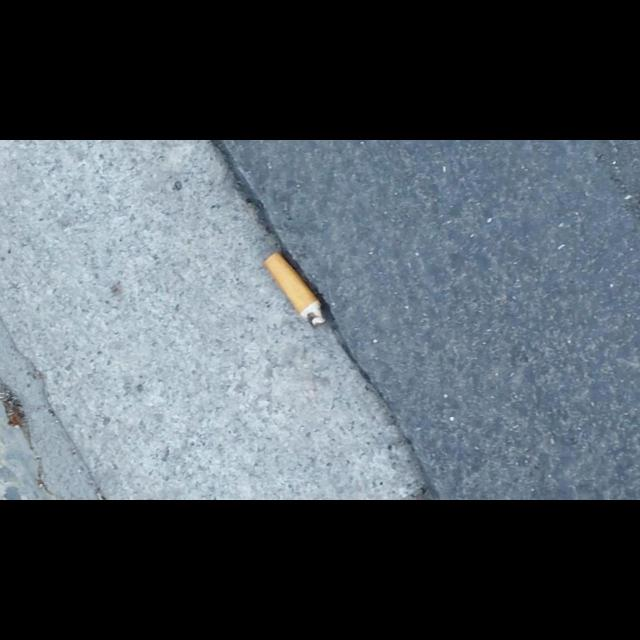cigarette: (262, 250, 326, 330)
